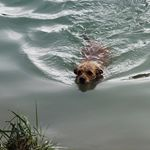puppy: (68, 51, 108, 91)
